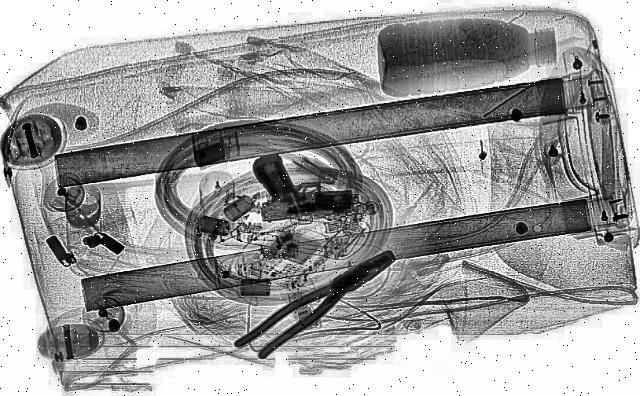Gun: (240, 147, 362, 221)
Pliers: (228, 243, 414, 358)
